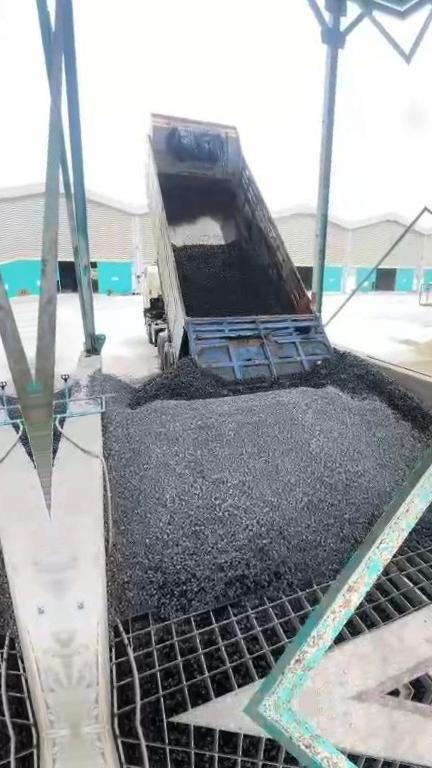gravel: (84, 351, 432, 614), (175, 243, 291, 317), (407, 475, 432, 550)
sand: (385, 336, 432, 383)
